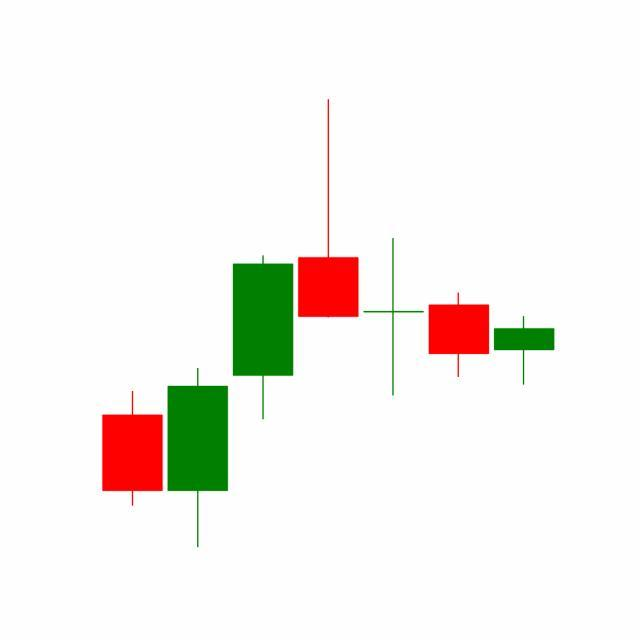Hikkake Pattern: (229, 99, 555, 425)
